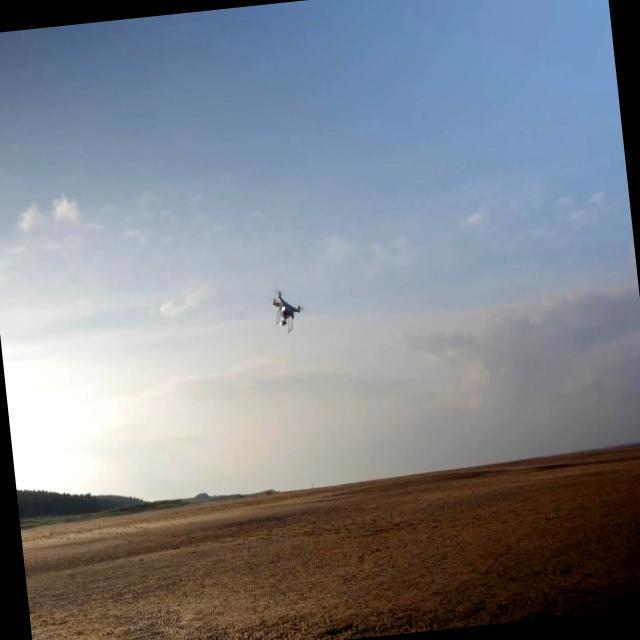drone: (267, 285, 304, 336)
